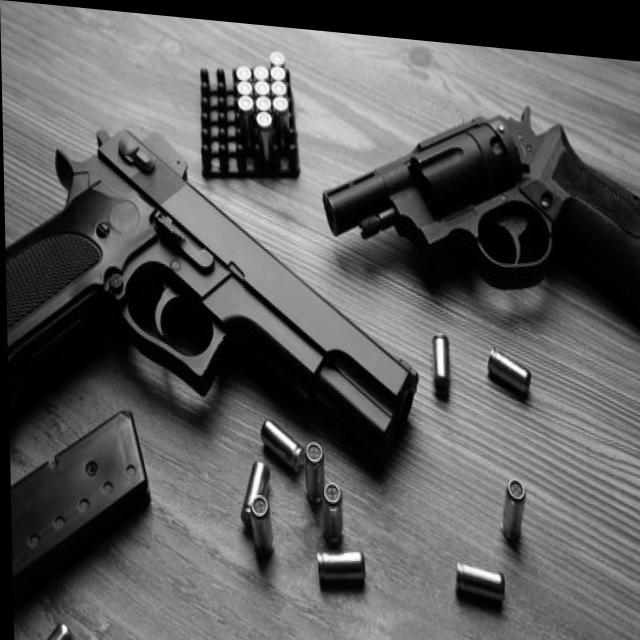handgun: (2, 117, 417, 444), (323, 78, 640, 292)
